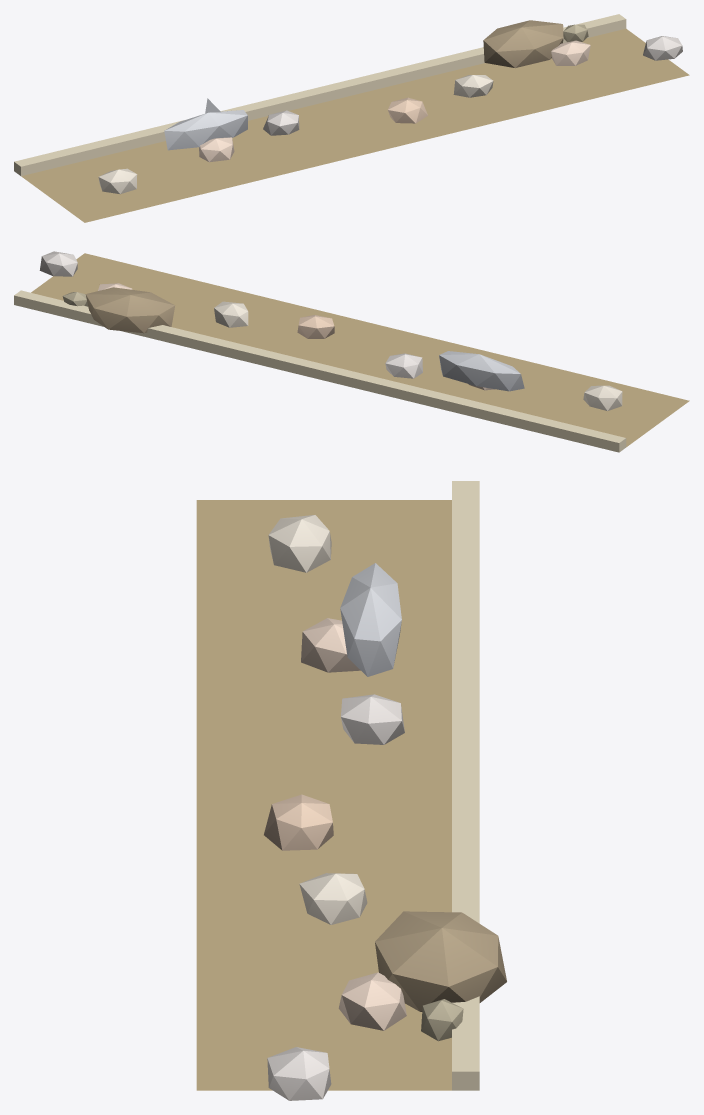
The model's file is praia_conchas.glb.
3 views of the same model, one above another, from view 1: azimuth 30°, elevation 25°; view 2: azimuth 150°, elevation 25°; view 3: azimuth 270°, elevation 25° (orthographic). The views are drawn at different scales.
Visible parts, largest first — view 1: Malha_0; view 2: Malha_0; view 3: Malha_0.
Boxes of the visible parts, x1,y1,x2,y2 form: Malha_0: (14,14,689,222); Malha_0: (14,251,689,452); Malha_0: (196,481,506,1100).
Bounding box in the file's own units: 4.11 × 0.3395 × 0.8884.
